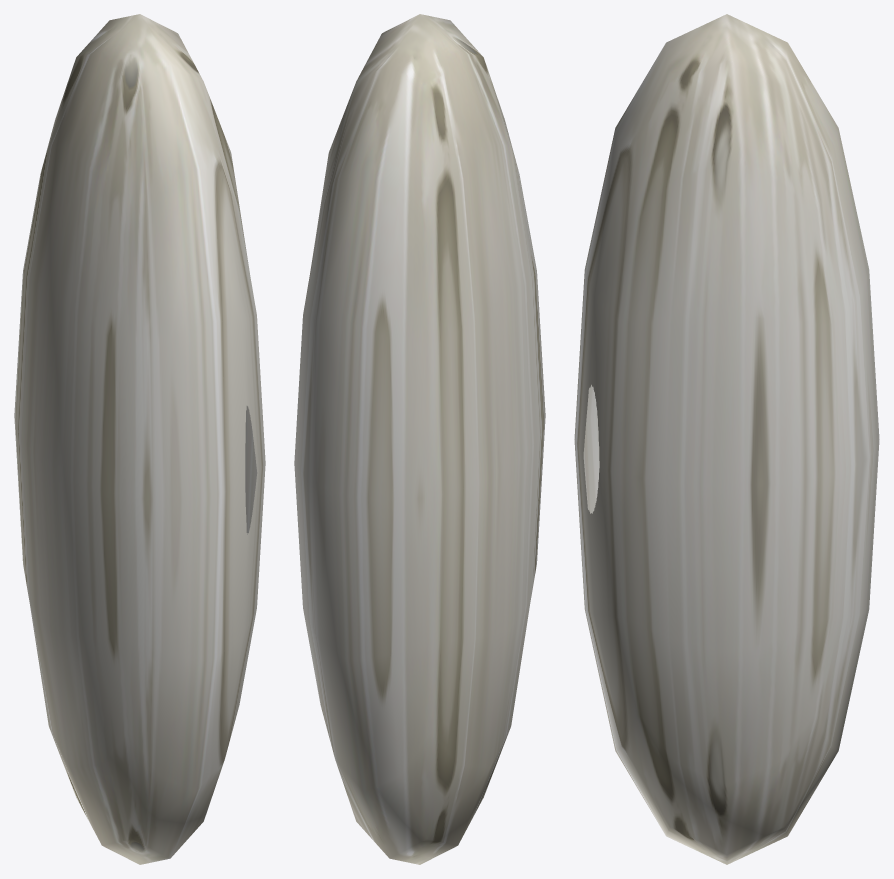
File: Box004_2d5b20fc__Paste_33685942_c1f257.obj
3 renders of one model, left to right at view 1: azimuth 30°, elevation 25°; view 2: azimuth 150°, elevation 25°; view 3: azimuth 270°, elevation 25°, orthographic.
Size of the model in its own units: 1.78 by 7.59 by 2.47.
Materials: 1 (1 with a texture image).
